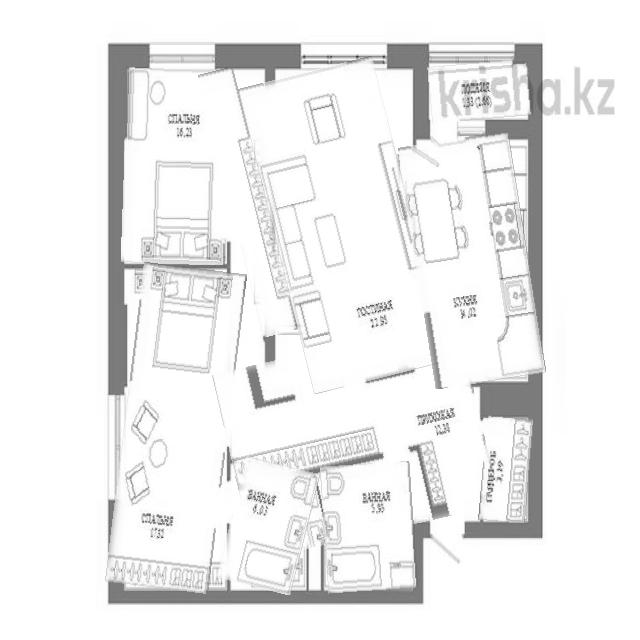balcony: (427, 63, 532, 123)
bathroom: (218, 456, 320, 595), (320, 462, 418, 596)
hallway: (212, 361, 497, 514), (199, 67, 298, 337)
kitchen: (399, 130, 546, 388)
living_room: (239, 58, 448, 394), (105, 264, 246, 594), (122, 67, 231, 265)
other: (480, 417, 533, 523)
